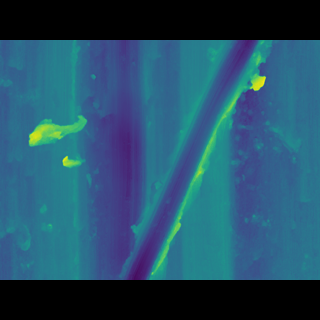Loch: (120, 68, 261, 251), (30, 126, 86, 152)
